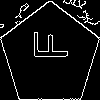F: (25, 30, 68, 60)
